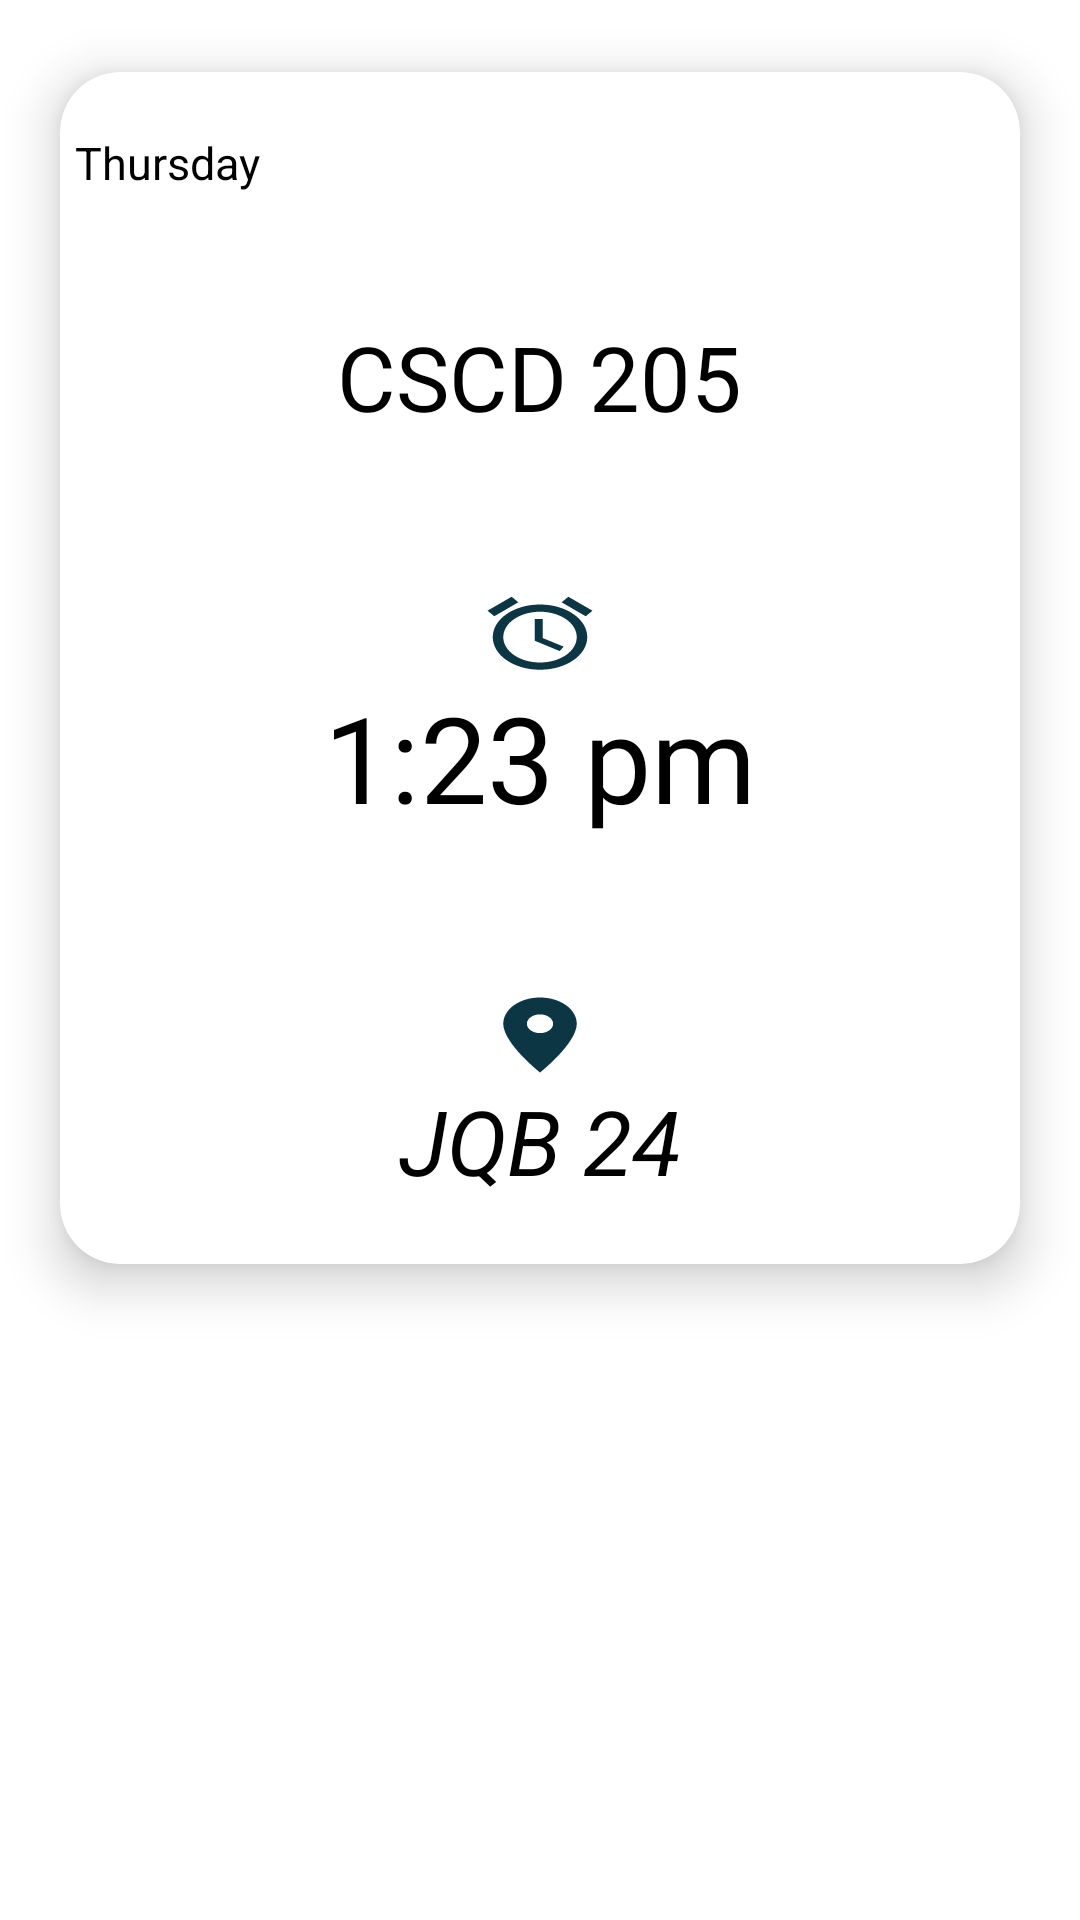

Icons on this 1080x1920 Android screen, each with its box as (x1, y1, x2, y2):
access alarm: (487, 597, 593, 670)
place: (503, 997, 577, 1073)
